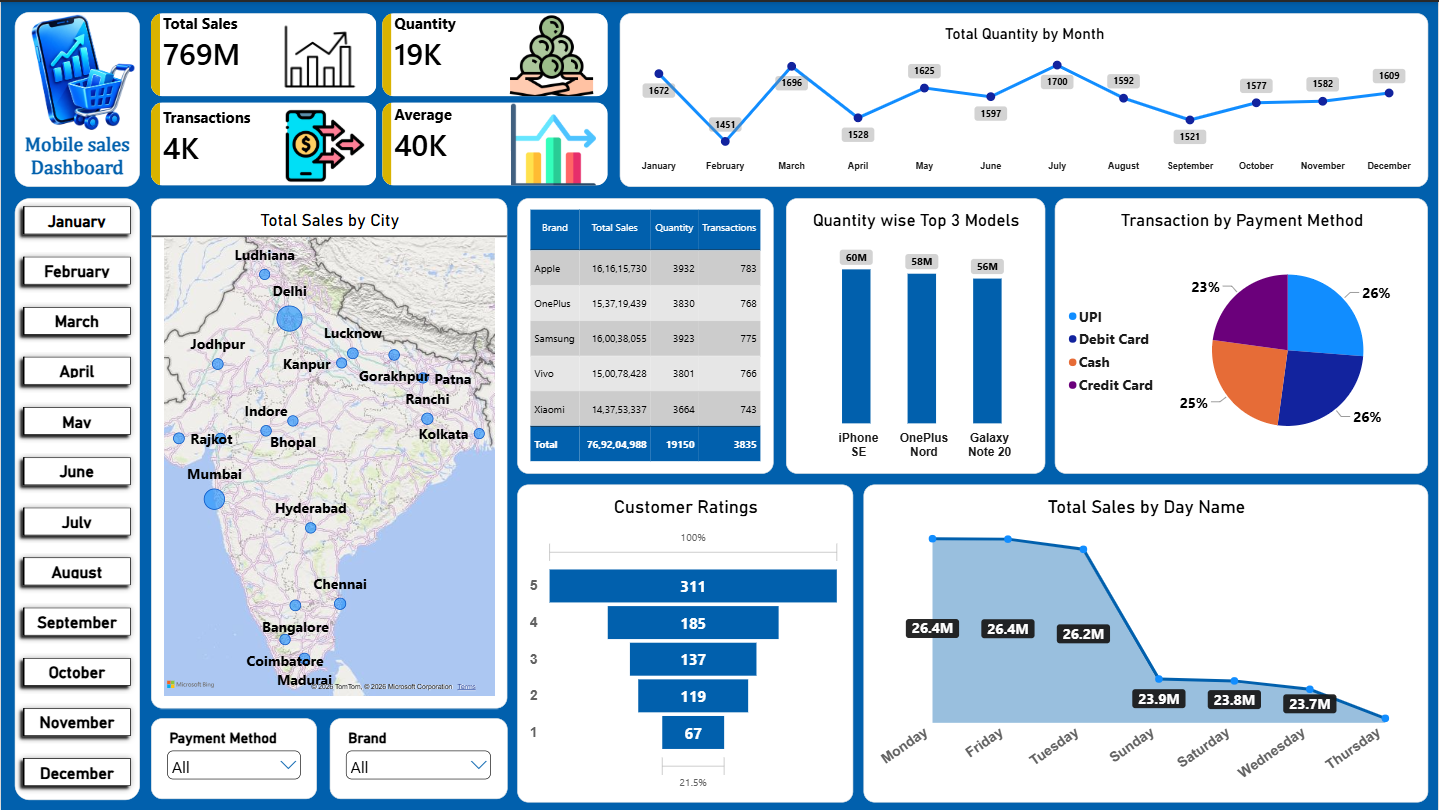

The page's visual inventory and layout, read from the dashboard file:
{"tool":"powerbi","page":{"name":"Page 1","canvas":[1920,1080],"ordinal":0},"visuals":[{"type":"shape","box":[18.4,12.9,167.5,233.7],"z":0},{"type":"shape","box":[18.4,261.4,167.5,804.3],"z":1000},{"type":"advancedSlicerVisual","fields":{"Values":["Sales_Data.Date.Variation.Date Hierarchy.Month"]},"box":[18.4,262.2,167,803.2],"z":2000},{"type":"cardVisual","fields":{"Data":["Sales_Data.Total Sales","Sales_Data.Total Quantity","Sales_Data.Transactions","Sales_Data.Average"]},"box":[200.6,14.7,611,231.9],"z":3000},{"type":"map","title":"Total Sales by City","fields":{"Category":["Sales_Data.City"],"Size":["Sales_Data.Total Sales"]},"box":[200.6,261.6,476.2,682],"z":4000},{"type":"lineChart","title":"Total Quantity by Month","fields":{"Y":["Sum(Sales_Data.Units Sold)"],"Category":["Sales_Data.Date.Variation.Date Hierarchy.Month","Sales_Data.Date.Variation.Date Hierarchy.Day"]},"box":[826.4,14.7,1080.4,231.9],"z":5000},{"type":"clusteredColumnChart","title":"Quantity wise Top 3 Models","fields":{"Category":["Sales_Data.Mobile Model"],"Y":["Sales_Data.Total Sales"]},"box":[1049.1,261.4,346,368.1],"z":6000},{"type":"pieChart","title":"Transaction by Payment Method","fields":{"Y":["Sales_Data.Transactions"],"Category":["Sales_Data.Payment Method"]},"box":[1408,261.4,498.8,368.1],"z":7000},{"type":"funnel","title":"Customer Ratings","fields":{"Category":["Sales_Data.Customer Ratings"],"Y":["CountNonNull(Sales_Data.Customer Ratings)"]},"box":[690.2,644.2,449.1,425.2],"z":8000},{"type":"stackedAreaChart","title":"Total Sales by Day Name","fields":{"Category":["Sales_Data.Day Name"],"Y":["Sales_Data.Total Sales"]},"box":[1152.2,644.2,754.6,425.2],"z":9000},{"type":"tableEx","fields":{"Values":["Sales_Data.Brand","Sales_Data.Total Sales","Sales_Data.Quantity","CountNonNull(Sales_Data.Transaction ID)"]},"box":[690.2,261.4,342.3,368.1],"z":10000},{"type":"image","box":[18.4,15,167,160.3],"z":11000},{"type":"slicer","fields":{"Values":["Sales_Data.Payment Method"]},"box":[200.6,957.6,221.5,108.1],"z":12000},{"type":"slicer","fields":{"Values":["Sales_Data.Brand"]},"box":[439.5,957.6,237.2,108.1],"z":13000},{"type":"textbox","box":[18.4,175.3,167,71.8],"z":14000}]}

Visuals, with their boxes in screenshot pixels (x1, y1, x2, y2), scaled from the page's 1920x1080 canvas onto the 1439x810 screenshot:
shape: box(14, 10, 139, 185)
shape: box(14, 196, 139, 799)
advancedSlicerVisual - Sales_Data.Date.Variation.Date Hierarchy.Month: box(14, 197, 139, 799)
cardVisual - Sales_Data.Total Sales x Sales_Data.Total Quantity: box(150, 11, 608, 185)
"Total Sales by City" map: box(150, 196, 507, 708)
"Total Quantity by Month" lineChart: box(619, 11, 1429, 185)
"Quantity wise Top 3 Models" clusteredColumnChart: box(786, 196, 1046, 472)
"Transaction by Payment Method" pieChart: box(1055, 196, 1429, 472)
"Customer Ratings" funnel: box(517, 483, 854, 802)
"Total Sales by Day Name" stackedAreaChart: box(864, 483, 1429, 802)
tableEx - Sales_Data.Brand x Sales_Data.Total Sales: box(517, 196, 774, 472)
image: box(14, 11, 139, 131)
slicer - Sales_Data.Payment Method: box(150, 718, 316, 799)
slicer - Sales_Data.Brand: box(329, 718, 507, 799)
textbox: box(14, 131, 139, 185)
